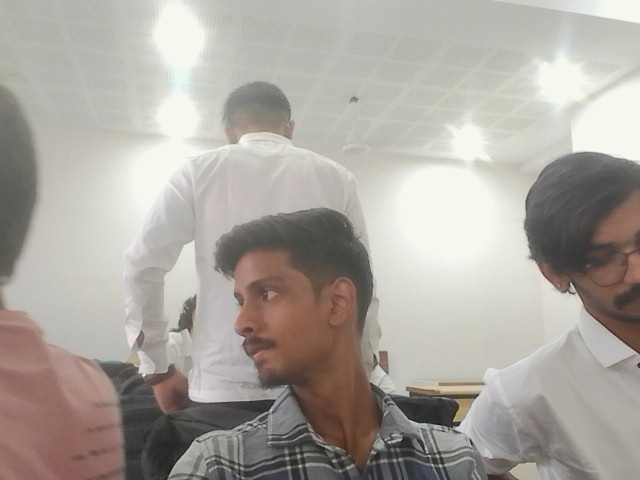fan_on: (339, 94, 369, 155)
light_on: (146, 6, 216, 139), (536, 67, 601, 110)
person: (173, 207, 494, 479), (166, 78, 371, 452), (0, 119, 190, 479), (458, 146, 639, 479)
